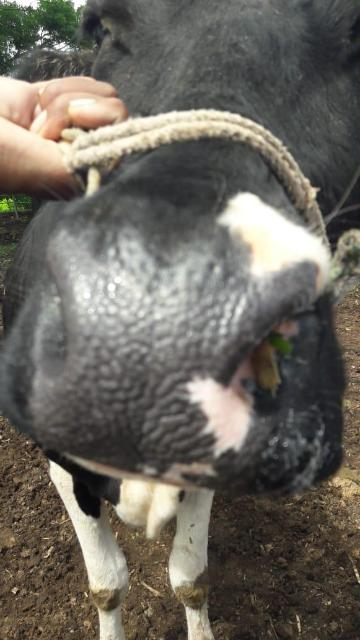Muzzle: (69, 243, 223, 463)
